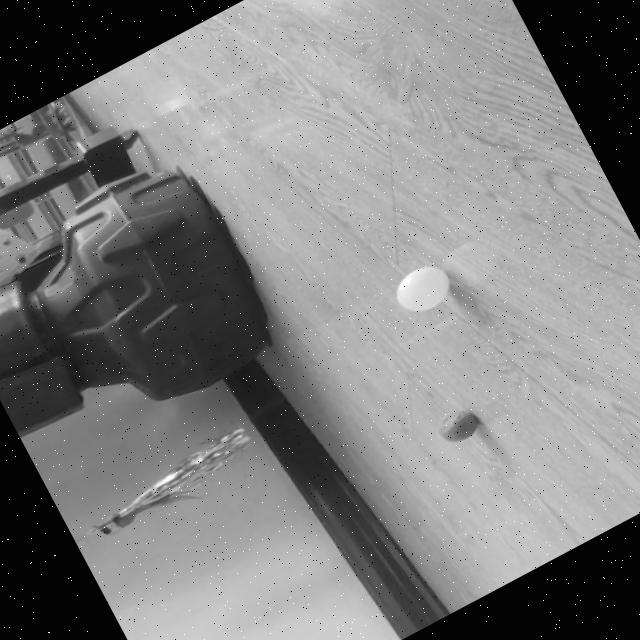ping-pong-ball: (392, 258, 457, 316)
